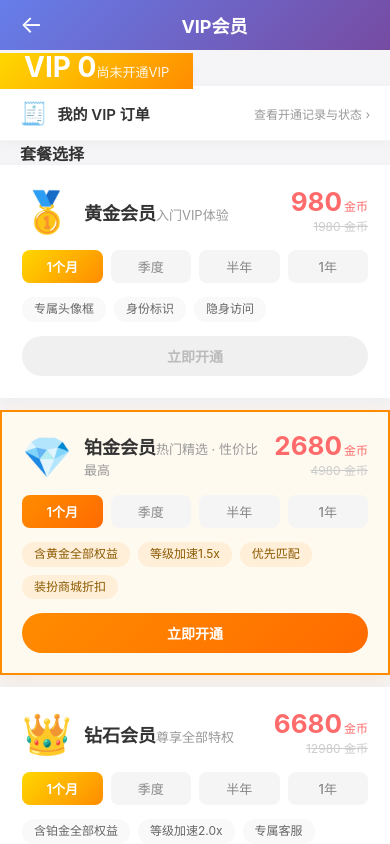
it: VipCenter VIP 订单记录 › 从 VIP 页进入订单弹层，按 page/pageSize 拉取并渲染状态文案
Click the element with class "orders-entry": (195, 114) top-left (0, 86), bottom-right (389, 141)
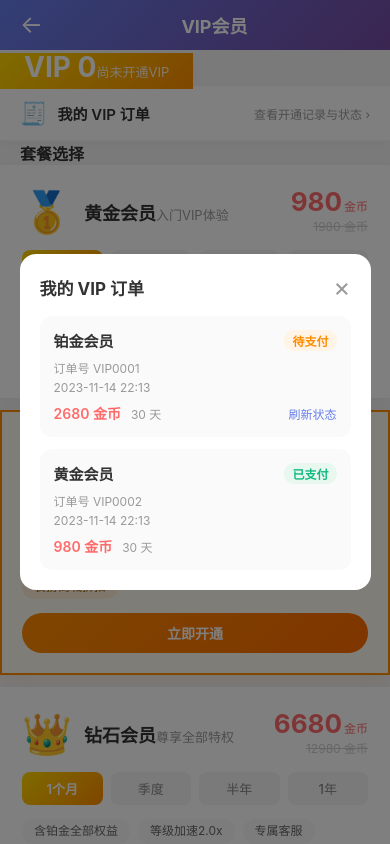
Check: the number of elements with class "order-item" is 2, box top-left (40, 316), bottom-right (350, 437); top-left (40, 449), bottom-right (350, 570)
Check: the element with class "order-item" shows "VIP0001", box top-left (54, 361), bottom-right (140, 376)
Check: the element with class "order-item" shows "待支付", box top-left (292, 334), bottom-right (328, 349)
